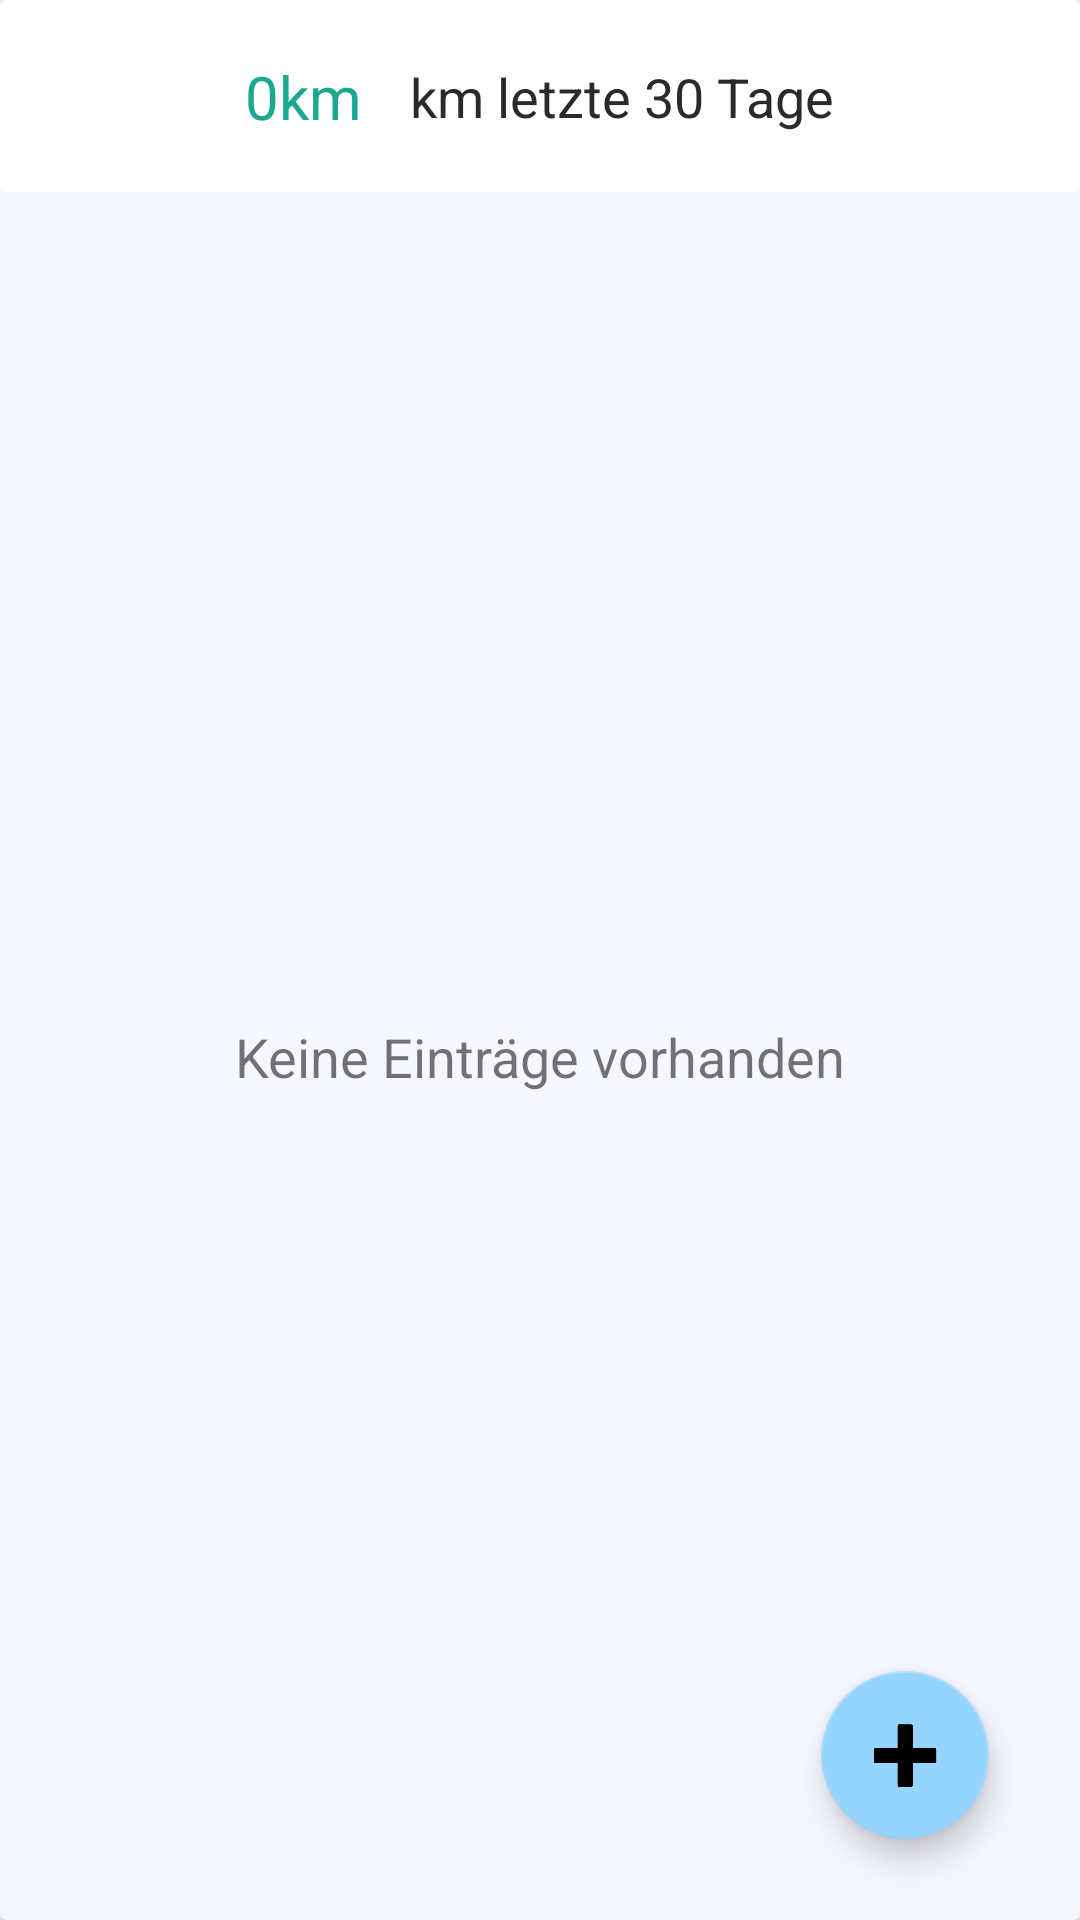

Screen size 1080×1920. Icon name, then its box in pixels as (x1, y1, x2, y2):
plus: (821, 1671, 989, 1839)
